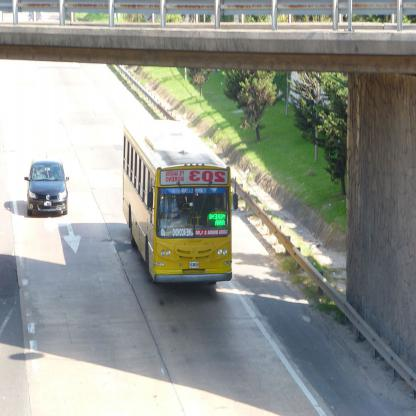bus: (125, 119, 232, 286)
car: (25, 154, 70, 220)
